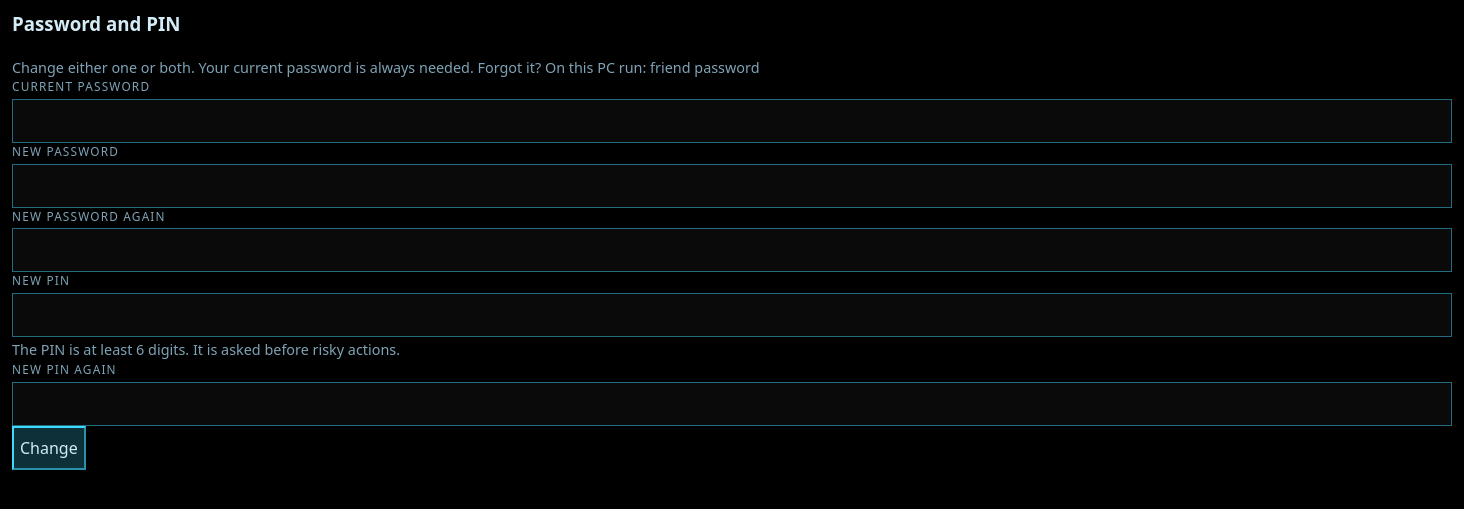
<SecurityTab> › sends only the PIN when only a PIN was typed, keeping digits only
The width and height of the screenshot is (1464, 509).
Type "old password" into the password field labelled "Current password". click: coordinates (732, 121)
box: x1=12 y1=99 x2=1452 y2=143
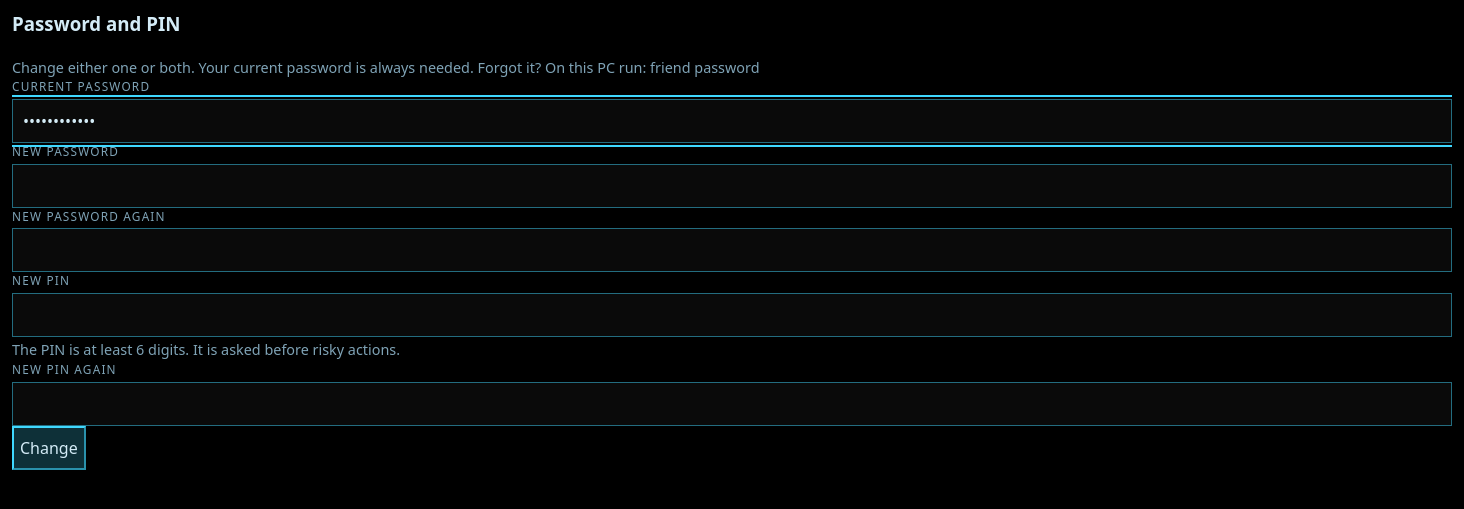
Type "12ab3456" into the password field labelled "New PIN". click: coordinates (732, 315)
box: x1=12 y1=293 x2=1452 y2=337
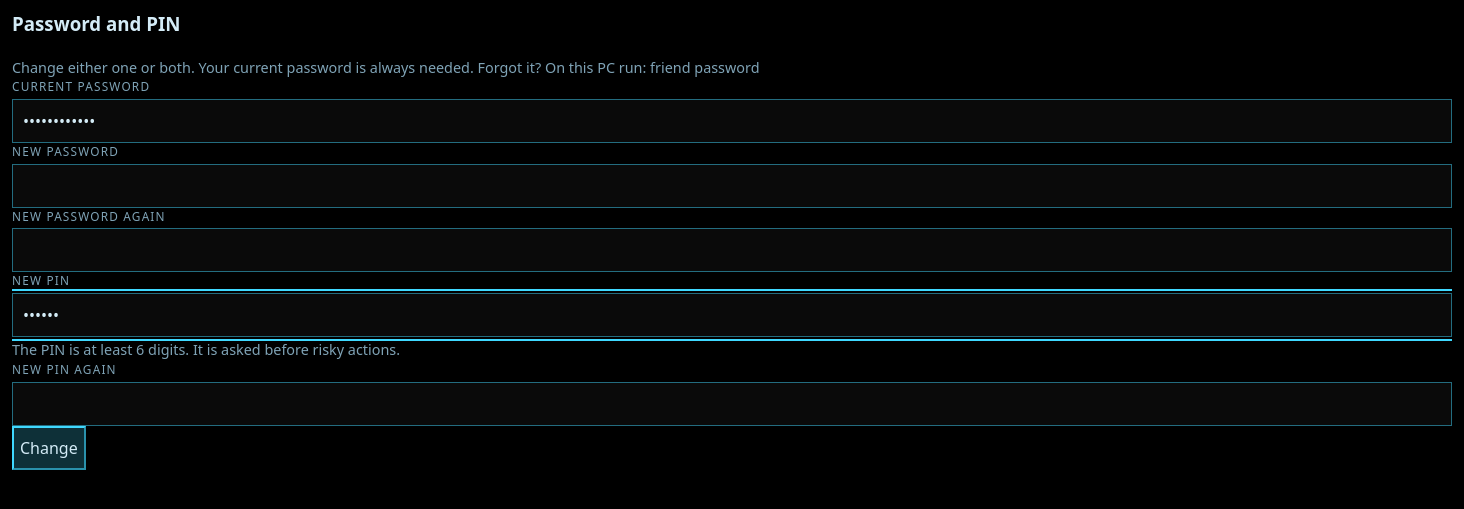
Type "123456" into the password field labelled "New PIN again". click: coordinates (732, 404)
box: x1=12 y1=382 x2=1452 y2=426
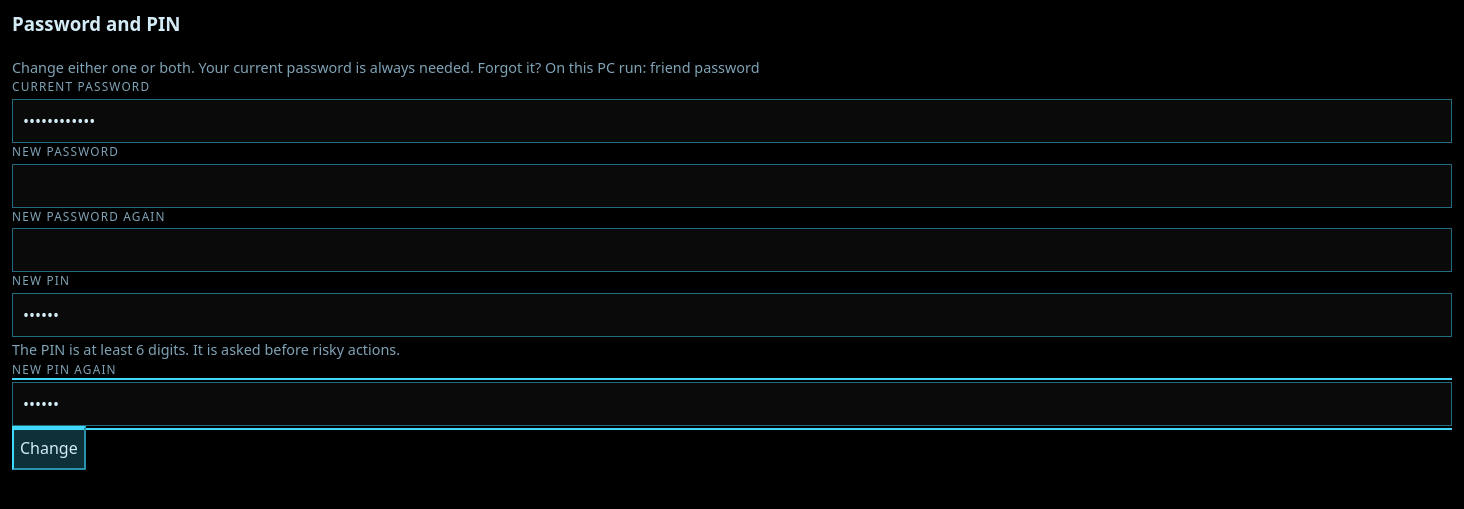
Click the button "Change". click: coordinates (49, 448)
box: x1=12 y1=426 x2=86 y2=470
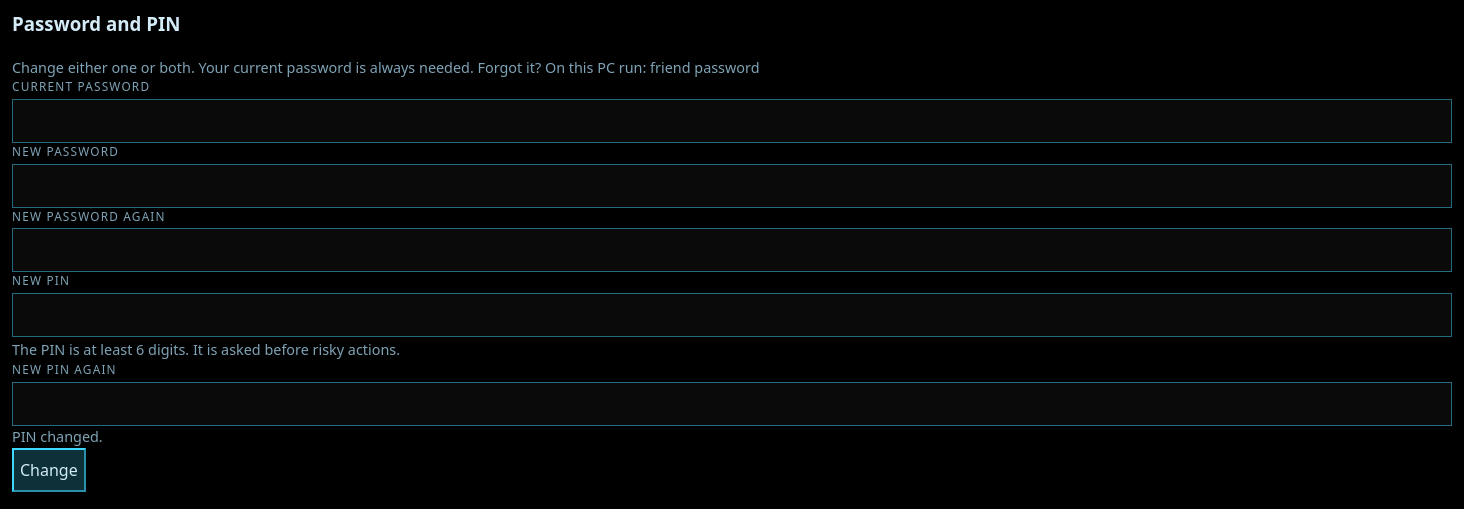
Expected: the message reads "PIN changed.", x1=12 y1=427 x2=103 y2=446
